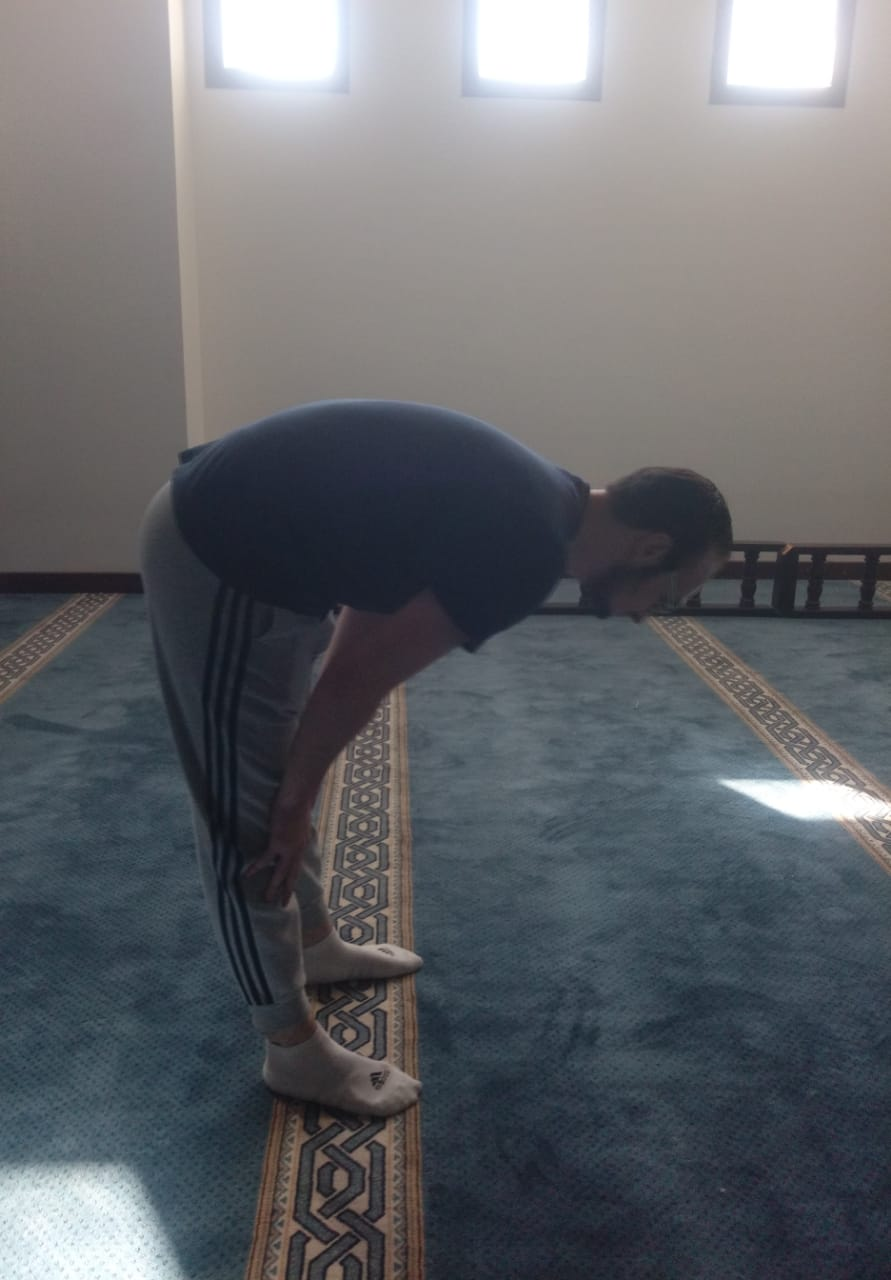ruku: (96, 350, 779, 1153)
